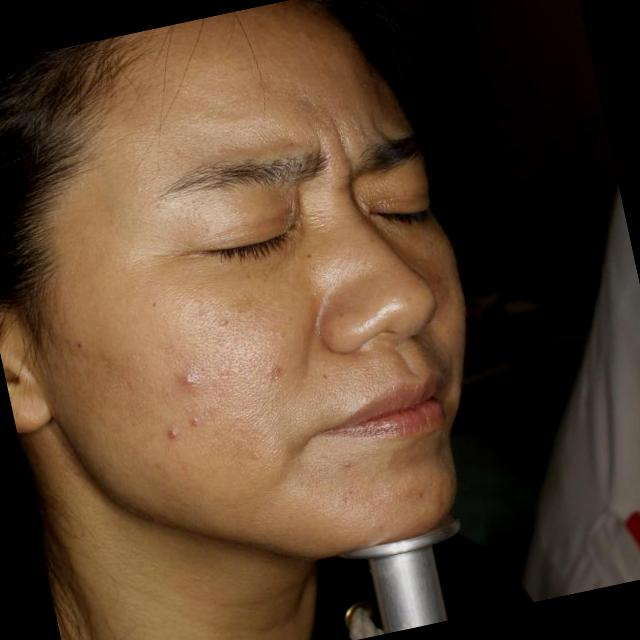acne: (174, 365, 206, 397), (157, 418, 184, 451)
